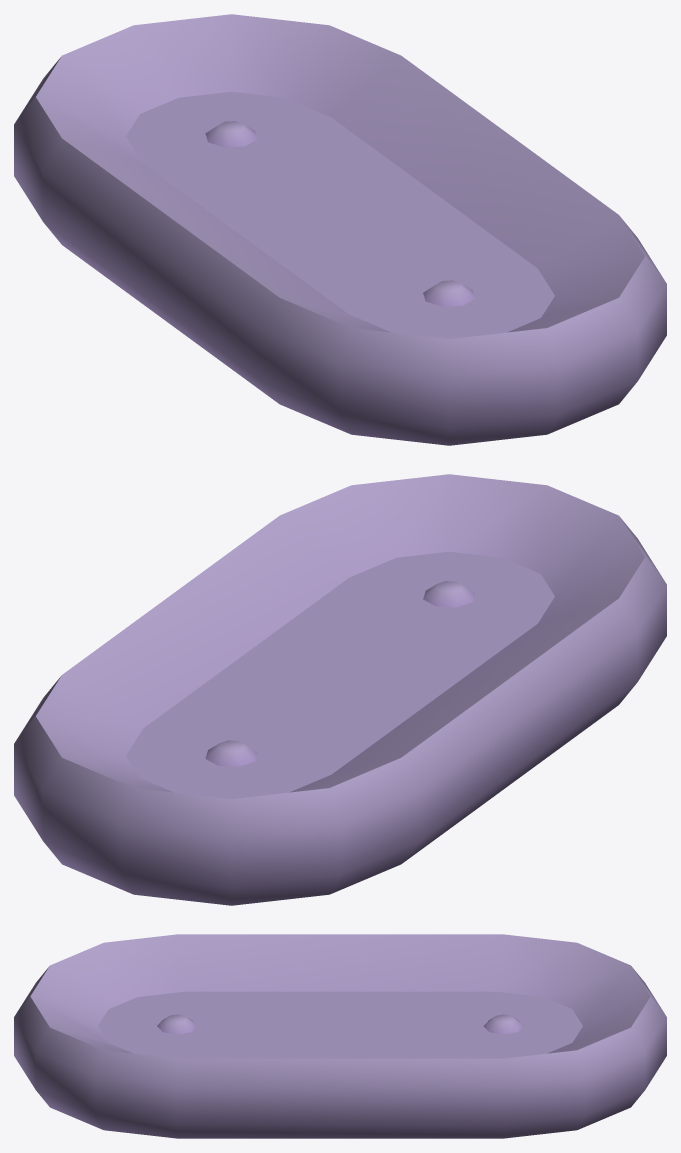
File: cushion-indent-round-wide_0.glb
The picture shows the model from 3 angles, top to bottom: view 1: azimuth 30°, elevation 25°; view 2: azimuth 150°, elevation 25°; view 3: azimuth 270°, elevation 25°; orthographic projection. The views are drawn at different scales.
Parts seen in each view (by area): view 1: cushion-indent-round-wide; view 2: cushion-indent-round-wide; view 3: cushion-indent-round-wide.
Part boxes in pixels (x1=…): cushion-indent-round-wide: x1=14, y1=14, x2=666, y2=445; cushion-indent-round-wide: x1=14, y1=474, x2=666, y2=905; cushion-indent-round-wide: x1=14, y1=934, x2=666, y2=1138.
Bounding box in the file's own units: 0.5 × 0.1352 × 1.
